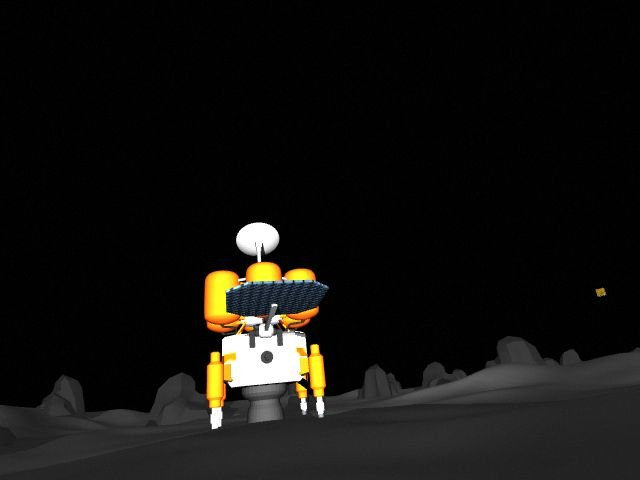homebase: (202, 222, 331, 430)
